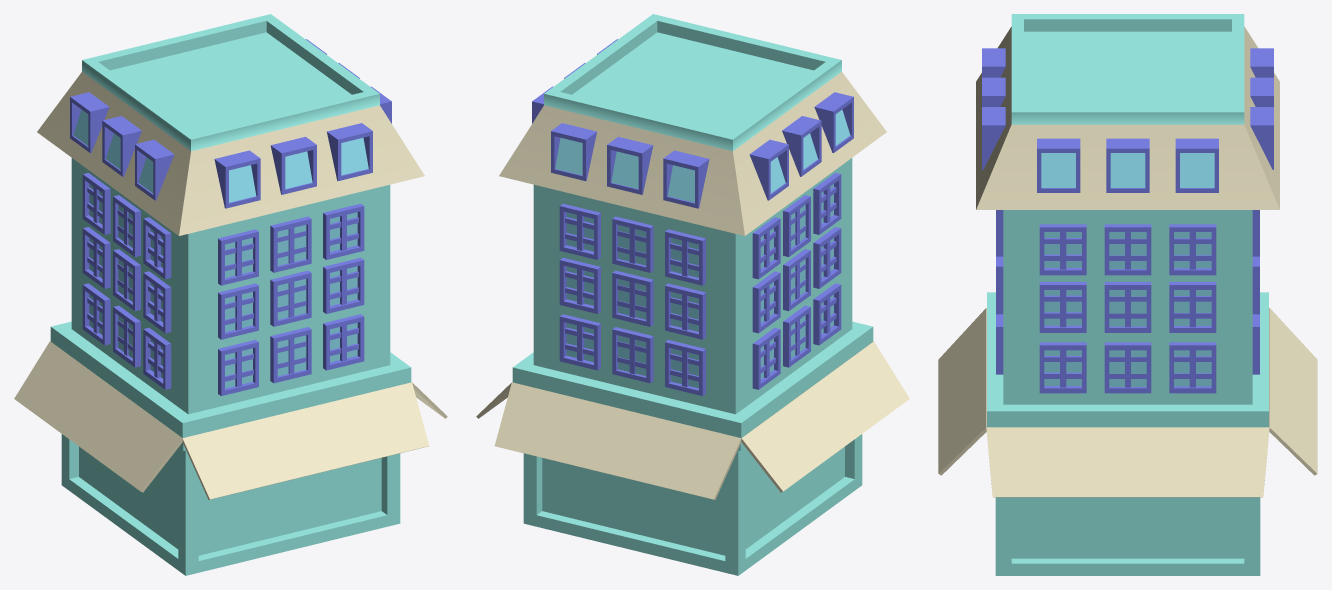
The model's file is Building 5.fbx.
3 renders of one model, left to right at view 1: azimuth 30°, elevation 25°; view 2: azimuth 150°, elevation 25°; view 3: azimuth 270°, elevation 25°, orthographic. The views are drawn at different scales.
Parts seen in each view (by area): view 1: building.019, building.023, building.020, building.021, building.022, building.018; view 2: building.019, building.023, building.020, building.021, building.022, building.018; view 3: building.019, building.023, building.021, building.020, building.022, building.018.
Boxes of the visible parts, x1=… form: building.019: x1=37, y1=14, x2=424, y2=235; building.023: x1=50, y1=158, x2=411, y2=437; building.020: x1=82, y1=173, x2=364, y2=396; building.021: x1=14, y1=341, x2=447, y2=499; building.022: x1=61, y1=434, x2=400, y2=575; building.018: x1=70, y1=39, x2=391, y2=208; building.019: x1=499, y1=14, x2=886, y2=235; building.023: x1=512, y1=158, x2=873, y2=437; building.020: x1=559, y1=173, x2=841, y2=396; building.021: x1=476, y1=341, x2=909, y2=499; building.022: x1=523, y1=434, x2=862, y2=575; building.018: x1=532, y1=39, x2=853, y2=208; building.019: x1=976, y1=14, x2=1279, y2=209; building.023: x1=987, y1=210, x2=1268, y2=427; building.021: x1=938, y1=307, x2=1317, y2=497; building.020: x1=996, y1=210, x2=1259, y2=393; building.022: x1=995, y1=497, x2=1260, y2=575; building.018: x1=982, y1=48, x2=1273, y2=192.
Bounding box in the file's own units: 139 × 184 × 139.
